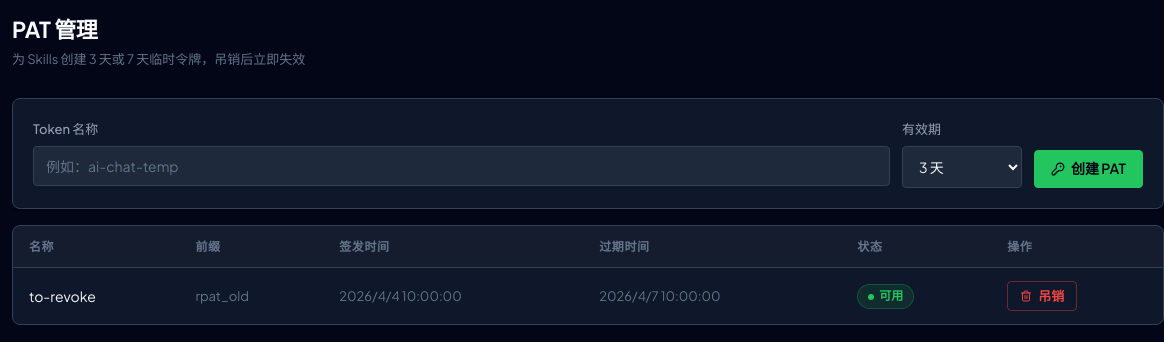
Test: revokes PAT
expect the text "to-revoke" is shown: met, box [13,268,180,324]
Click the button "吊销": [1042, 296] box [1007,281,1077,311]
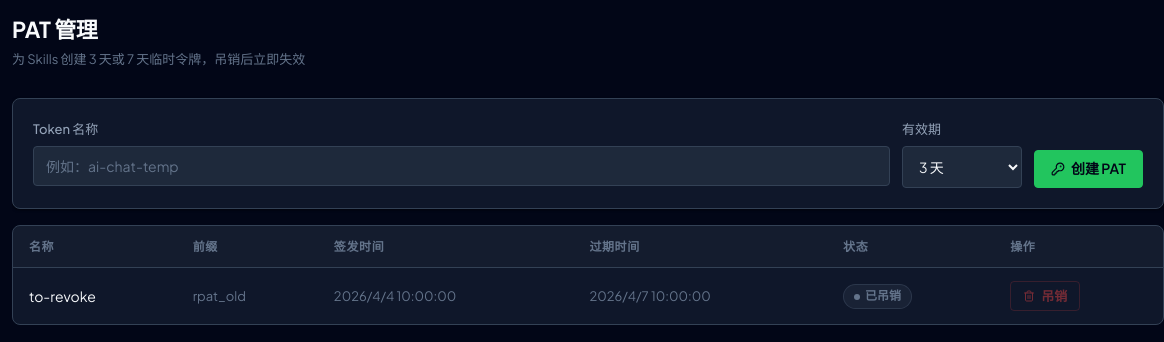
expect the text "已吊销" is shown: met, box [843,284,912,309]
